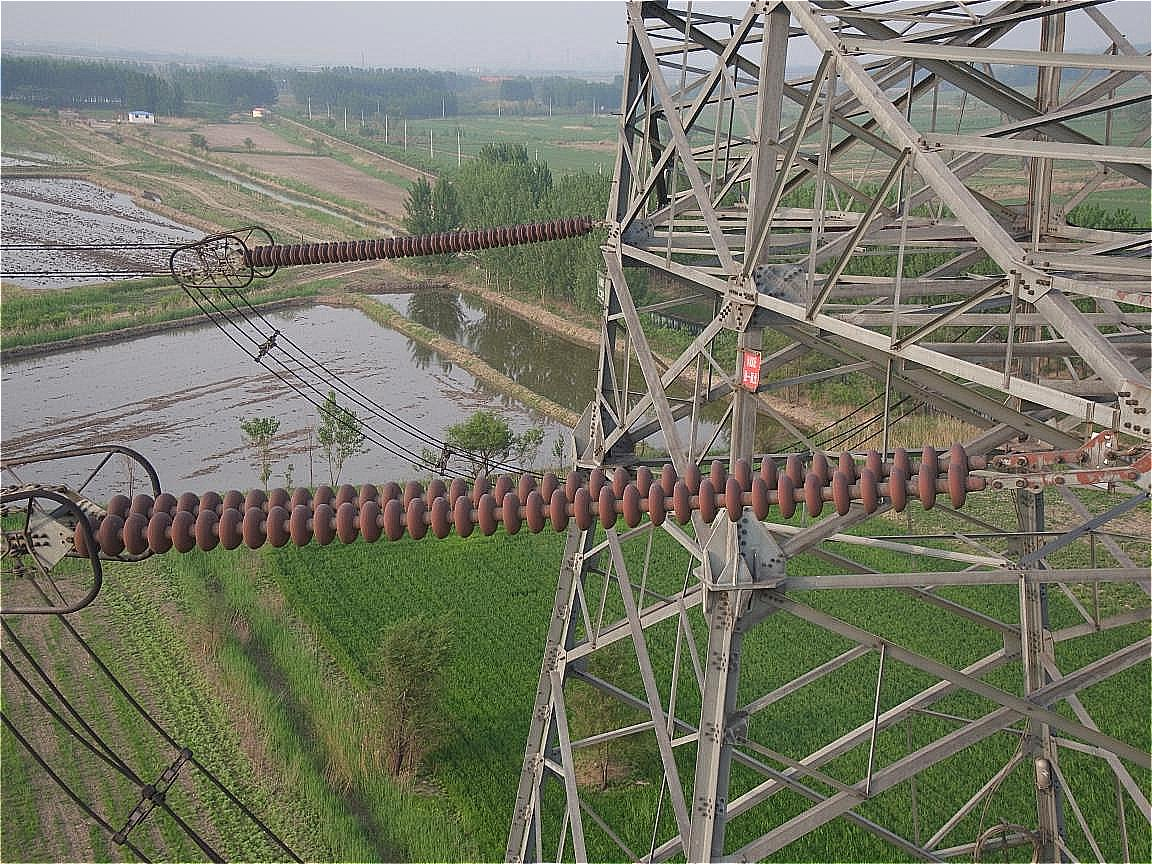insultor1: (56, 430, 1000, 555)
insultor2: (229, 205, 612, 274)
